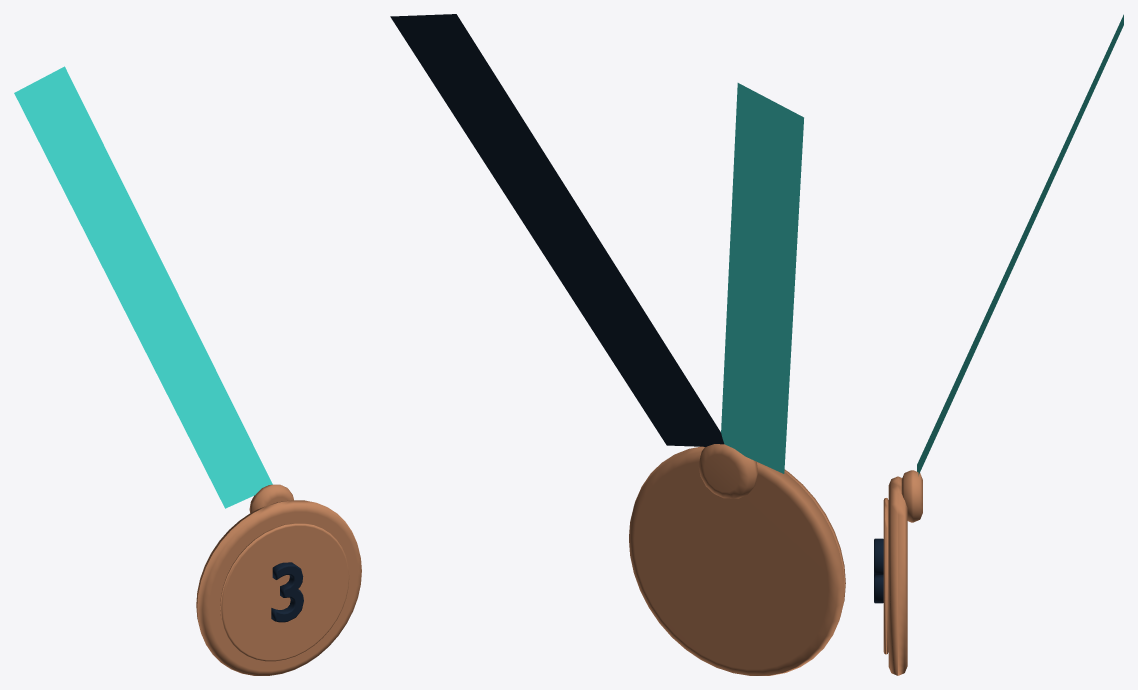
Rendered from bronze-medal.glb.
3 views of the same model, side by side, from view 1: azimuth 30°, elevation 25°; view 2: azimuth 150°, elevation 25°; view 3: azimuth 270°, elevation 25° (orthographic). The views are drawn at different scales.
Visible parts, largest first — view 1: bronze-medal / consolidated CC0 mesh; view 2: bronze-medal / consolidated CC0 mesh; view 3: bronze-medal / consolidated CC0 mesh.
Part boxes in pixels (x1,y1,x2,y2): bronze-medal / consolidated CC0 mesh: [14, 66, 361, 675]; bronze-medal / consolidated CC0 mesh: [390, 14, 845, 675]; bronze-medal / consolidated CC0 mesh: [874, 14, 1123, 675].
Bounding box in the file's own units: 0.162 × 0.272 × 0.1051.
